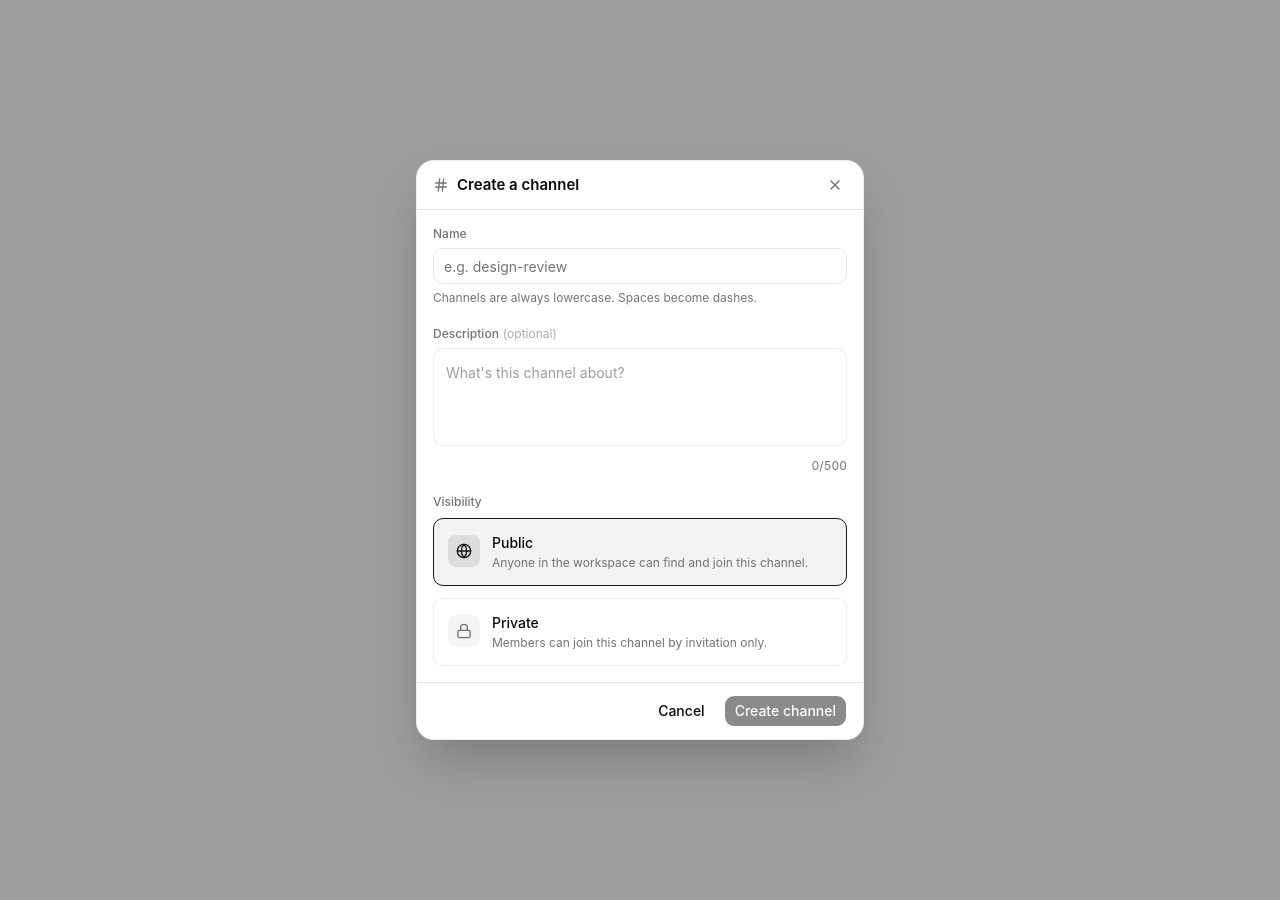
Test: CreateChannelModal › disables submit until a channel name is entered
Check: the button "Create channel" is disabled, box [724, 695, 847, 727]
Type "design" into the field labelled "Name".
click(640, 266); type("design")  # box [433, 248, 847, 284]
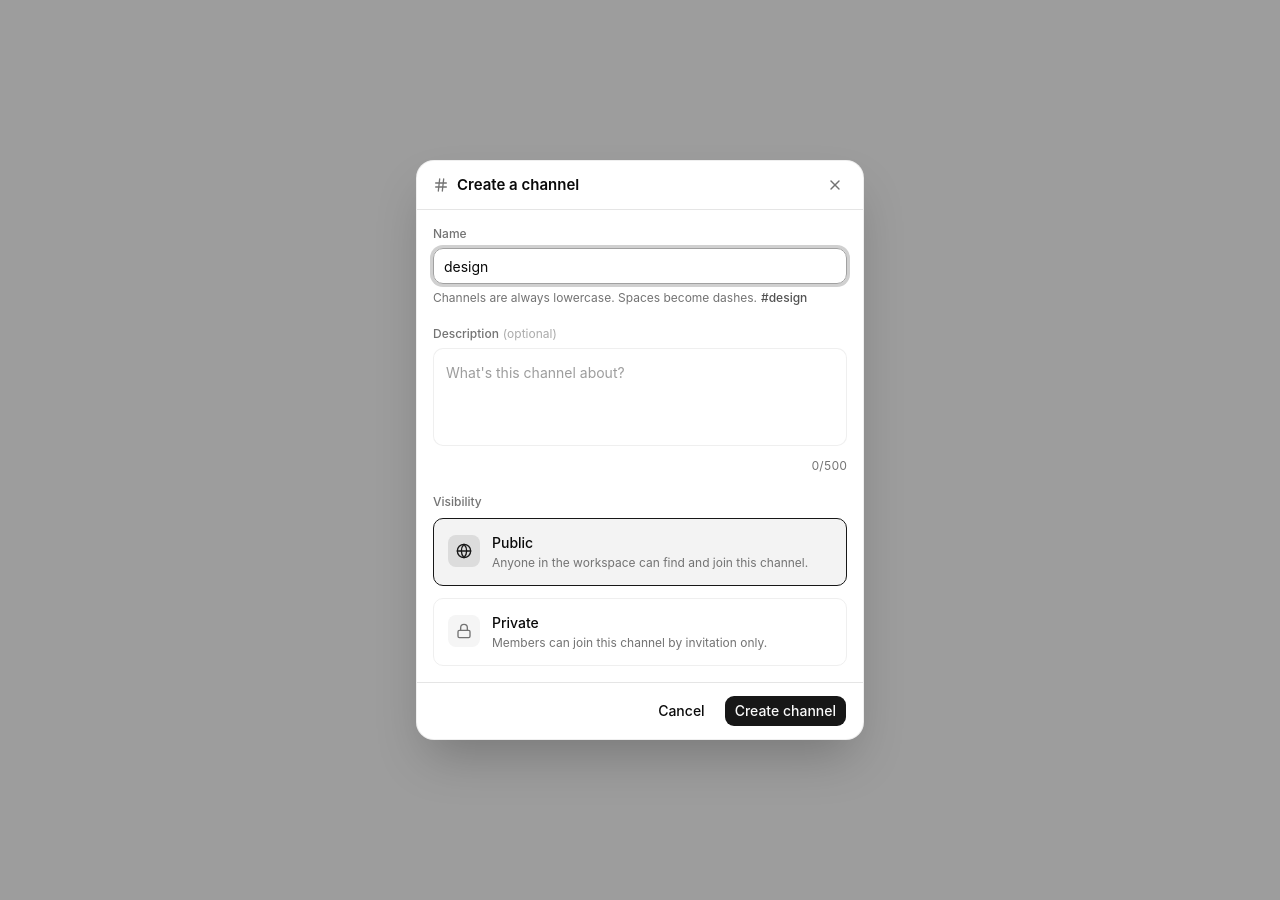
Check: the button "Create channel" is enabled, box [724, 695, 847, 727]
